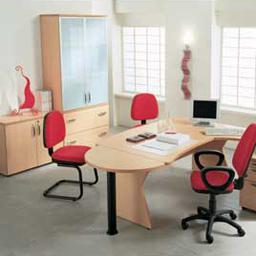Armario: (57, 18, 108, 140)
